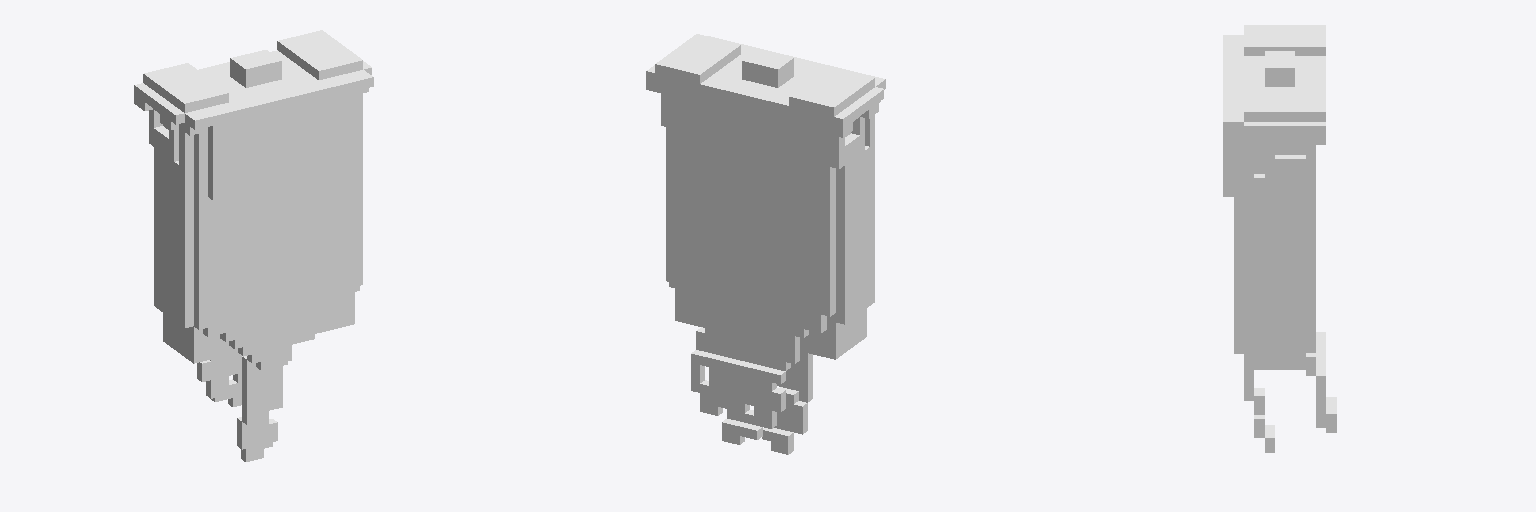
The model's file is HumanAnimation-4.obj.
The picture shows the model from 3 angles: view 1: azimuth 30°, elevation 25°; view 2: azimuth 150°, elevation 25°; view 3: azimuth 270°, elevation 25°; orthographic projection.
Parts seen in each view (by area): view 1: object 1; view 2: object 1; view 3: object 1.
Boxes of the visible parts, x1=… form: object 1: x1=134, y1=30, x2=373, y2=461; object 1: x1=646, y1=34, x2=885, y2=454; object 1: x1=1223, y1=25, x2=1336, y2=452.
Size of the model in its own units: 2.2 by 4.2 by 1.1.